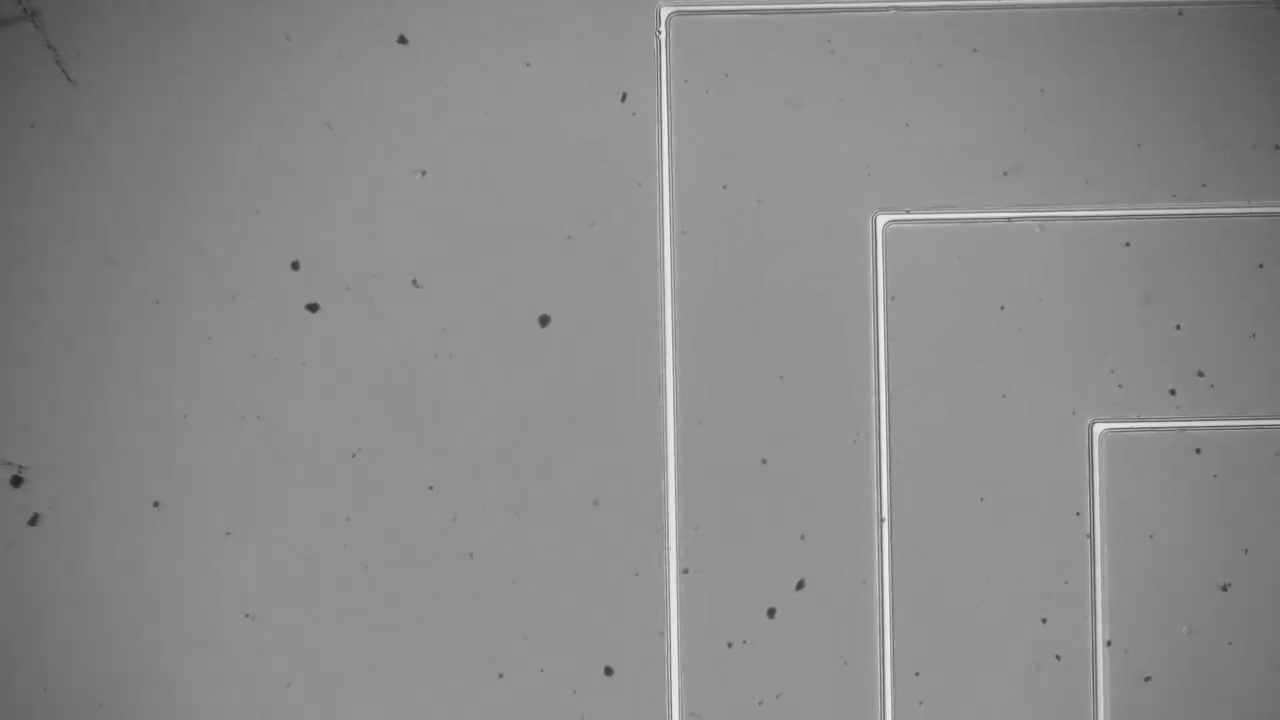scratch: (19, 7, 86, 92)
